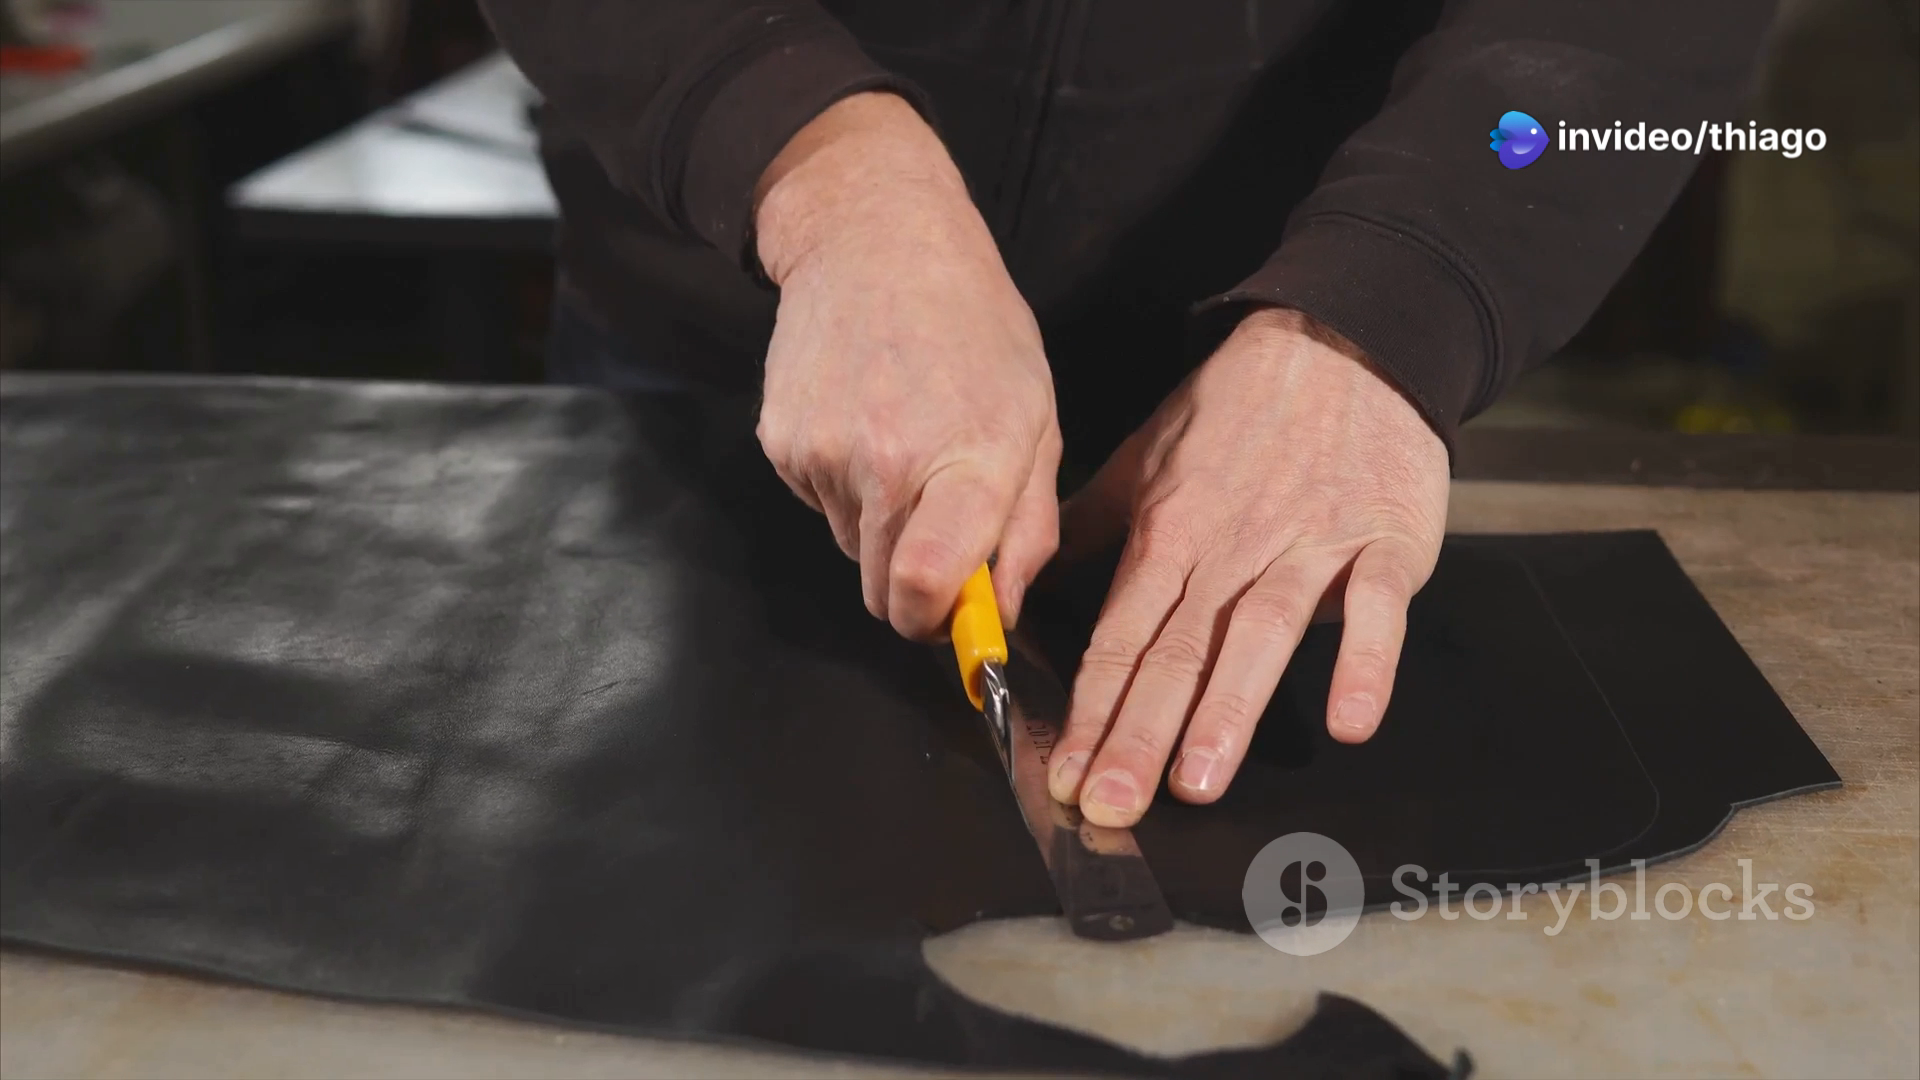cortante: (981, 658, 1017, 786)
